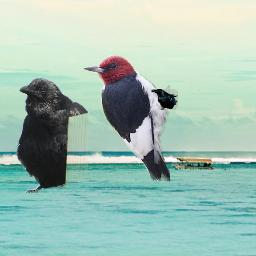Crow: (14, 77, 88, 193), (151, 89, 178, 110)
Woodpecker: (83, 55, 170, 182)
